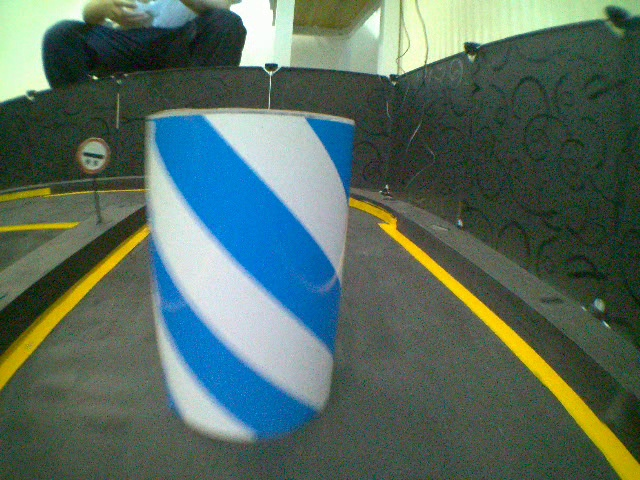bucket: (141, 103, 339, 447)
